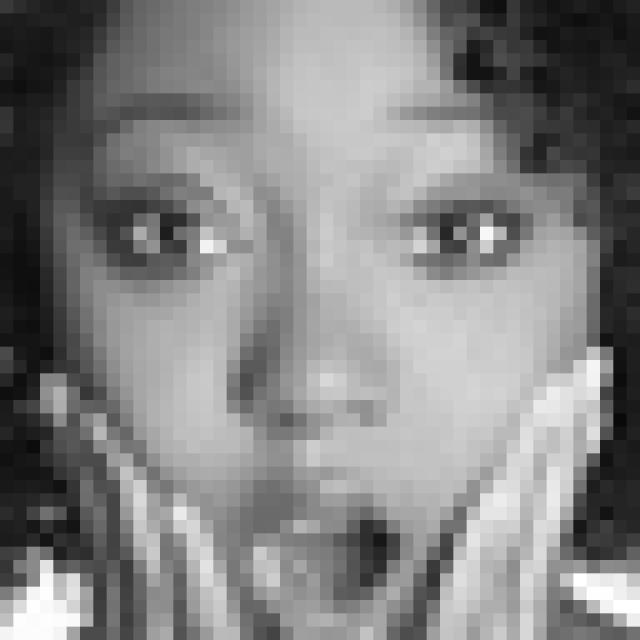surprise: (76, 87, 541, 640)
